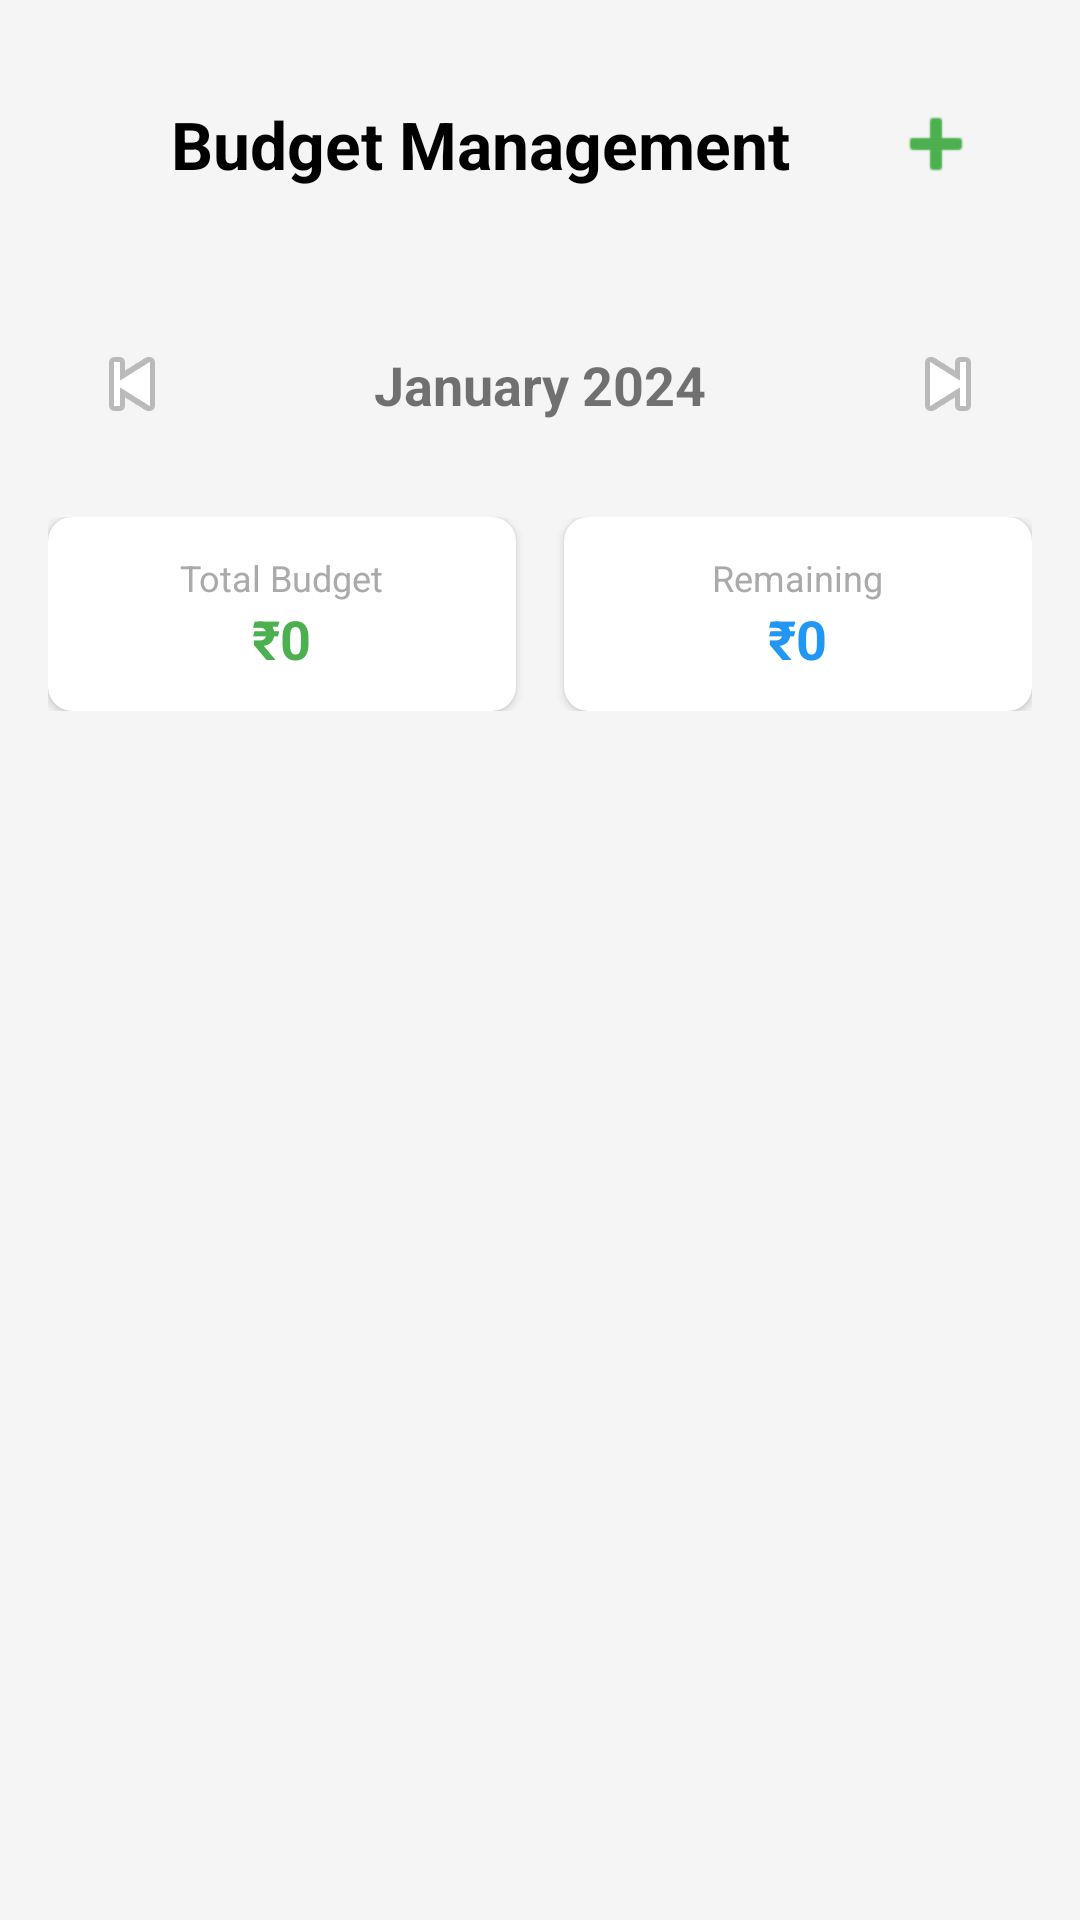

Locate icon controls on the screen. Image size 1080px×1920px, boxes as (x1=x1, y1=y1, x2=x2, y2=y2).
Add budget: (x1=909, y1=117, x2=963, y2=171)
Next month: (x1=925, y1=357, x2=971, y2=411)
Previous month: (x1=109, y1=357, x2=155, y2=411)
